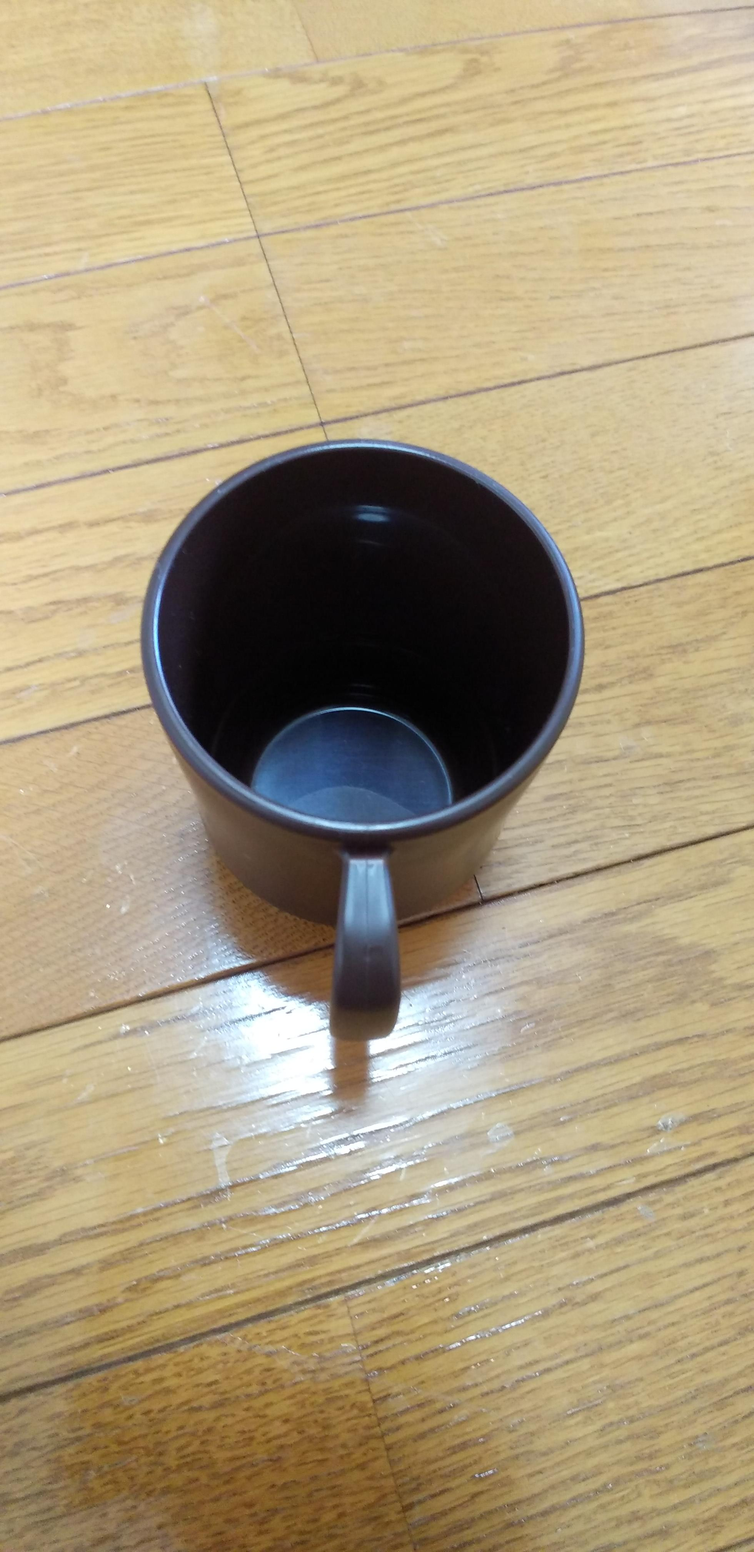mug-real100-3d100: (142, 440, 584, 1039)
